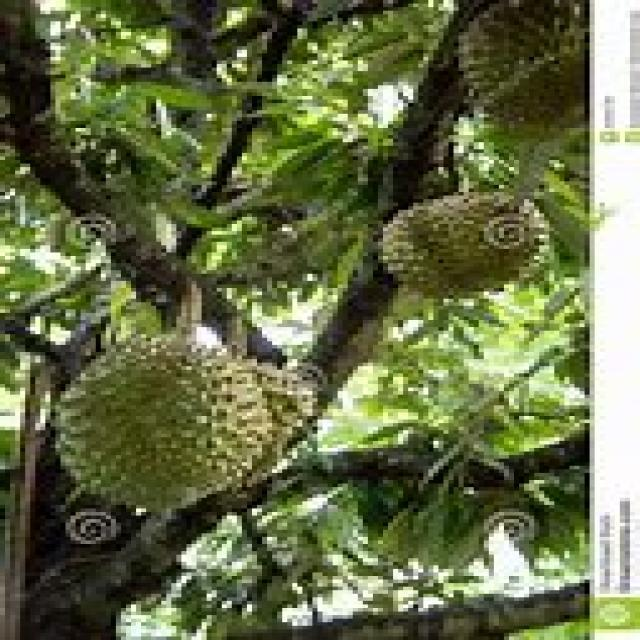immature: (55, 334, 269, 516), (371, 189, 552, 301)
